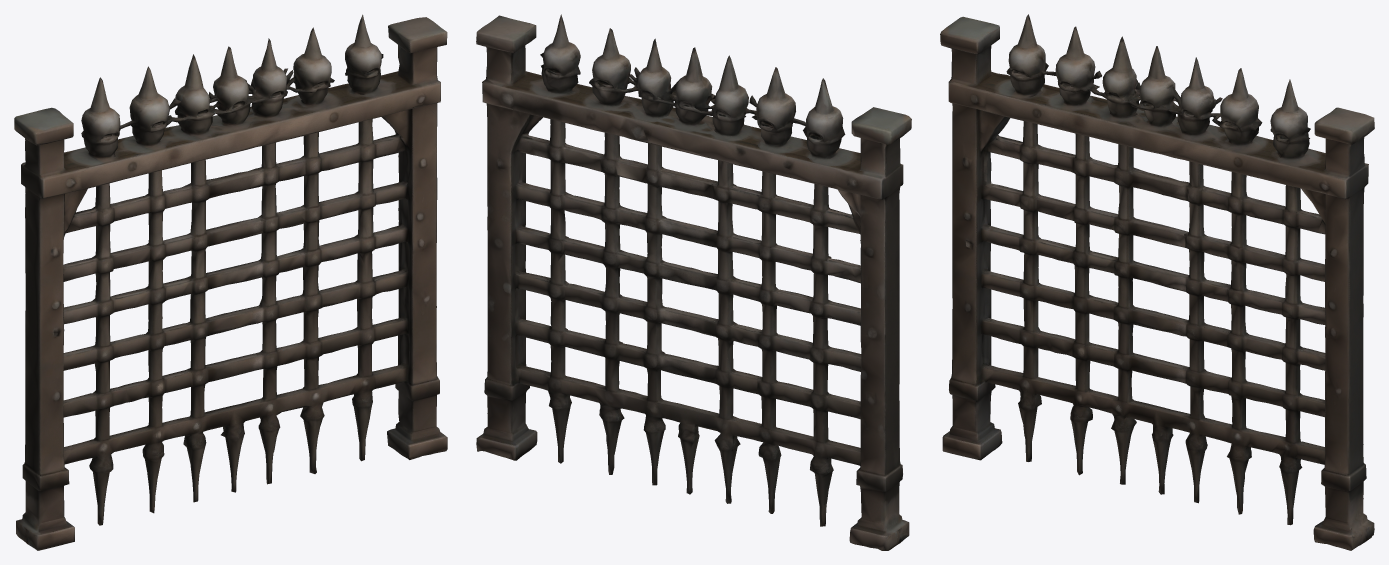
File: iron_gate_closed.glb
3 views of the same model, side by side, from view 1: azimuth 30°, elevation 25°; view 2: azimuth 150°, elevation 25°; view 3: azimuth 330°, elevation 25° (orthographic).
Bounding box in the file's own units: 1.93 × 2 × 0.2072.
Materials: 1 (1 with a texture image).
